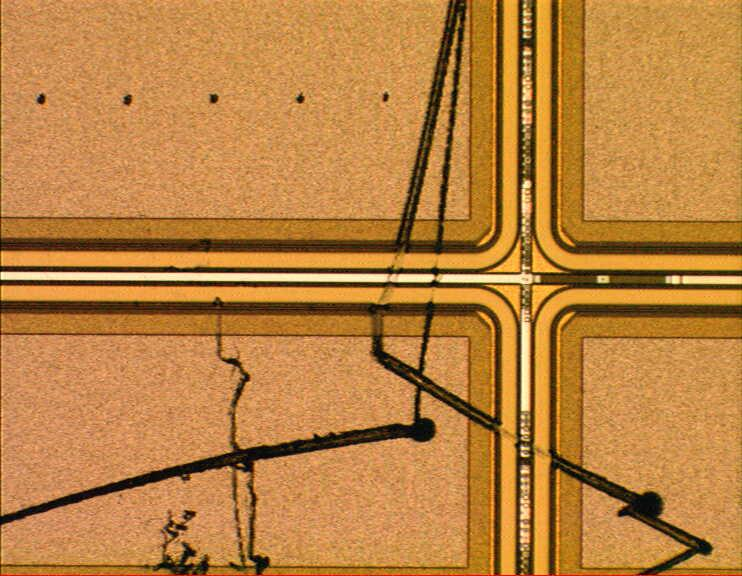SCRATCH: (1, 1, 723, 576)
